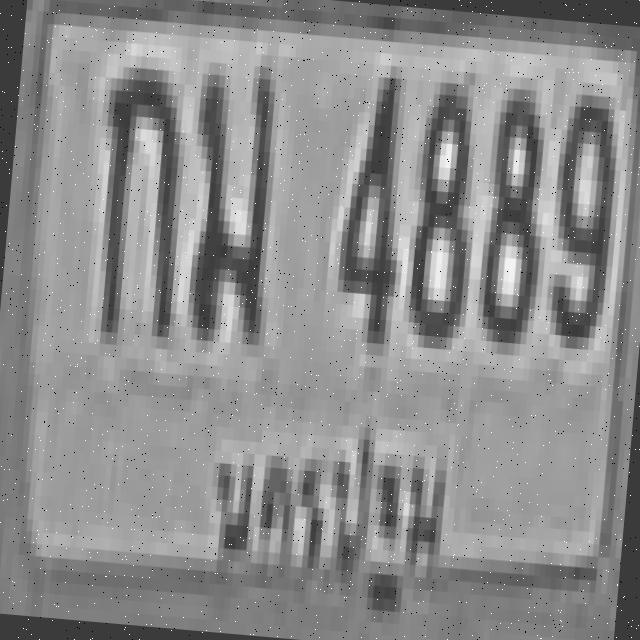10GorGai: (83, 54, 186, 336)
4: (328, 62, 408, 331)
42MorMa: (178, 49, 280, 332)
8: (402, 69, 481, 338), (474, 75, 548, 344)
9: (543, 80, 616, 338)
NakhonPathom: (190, 390, 476, 609)
